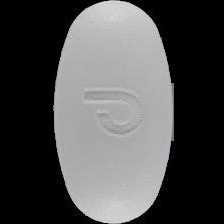49884-576: (0, 0, 224, 224)
